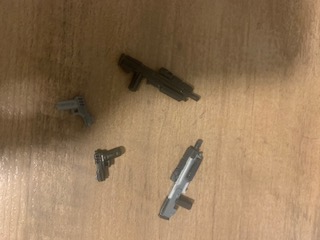pistol: (90, 145, 125, 182), (53, 96, 94, 127)
rifle: (116, 51, 202, 106), (155, 137, 205, 221)
